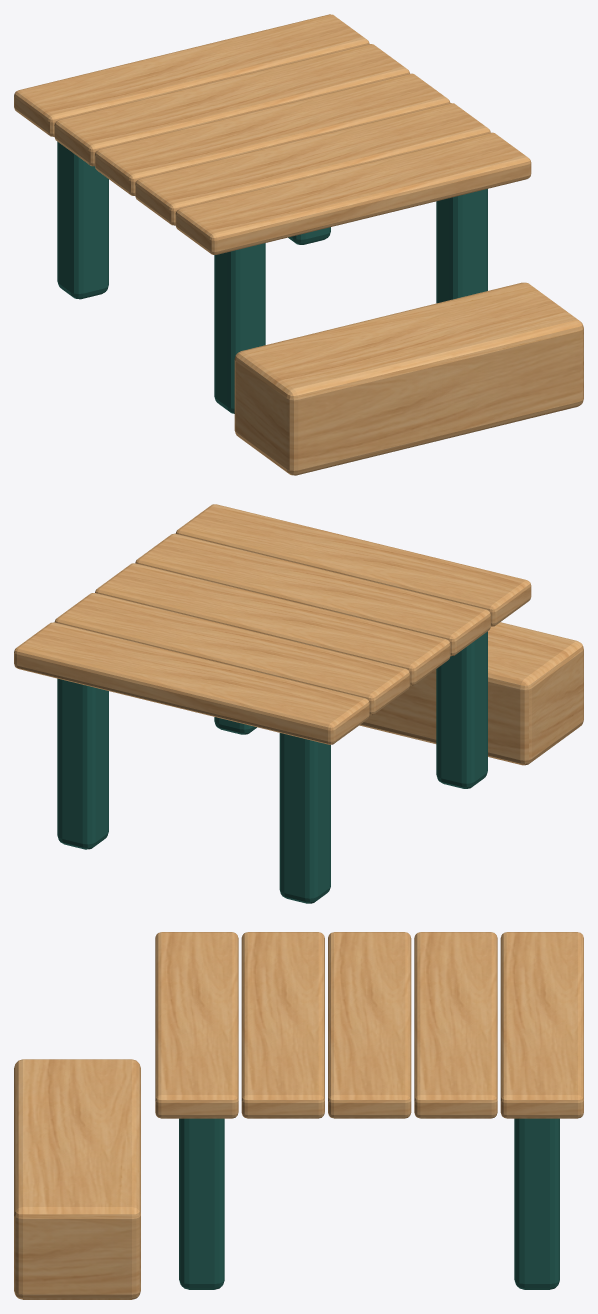
Rendered from sunny_perch.glb.
3 views of the same model, one above another, from view 1: azimuth 30°, elevation 25°; view 2: azimuth 150°, elevation 25°; view 3: azimuth 270°, elevation 25° (orthographic). The views are drawn at different scales.
Parts seen in each view (by area): view 1: sunny_perch; view 2: sunny_perch; view 3: sunny_perch.
Boxes of the visible parts, x1=… form: sunny_perch: x1=14, y1=14, x2=583, y2=475; sunny_perch: x1=14, y1=504, x2=583, y2=903; sunny_perch: x1=14, y1=932, x2=583, y2=1299.
Size of the model in its own units: 0.78 by 0.46 by 1.12.
2 materials, 1 textured.
